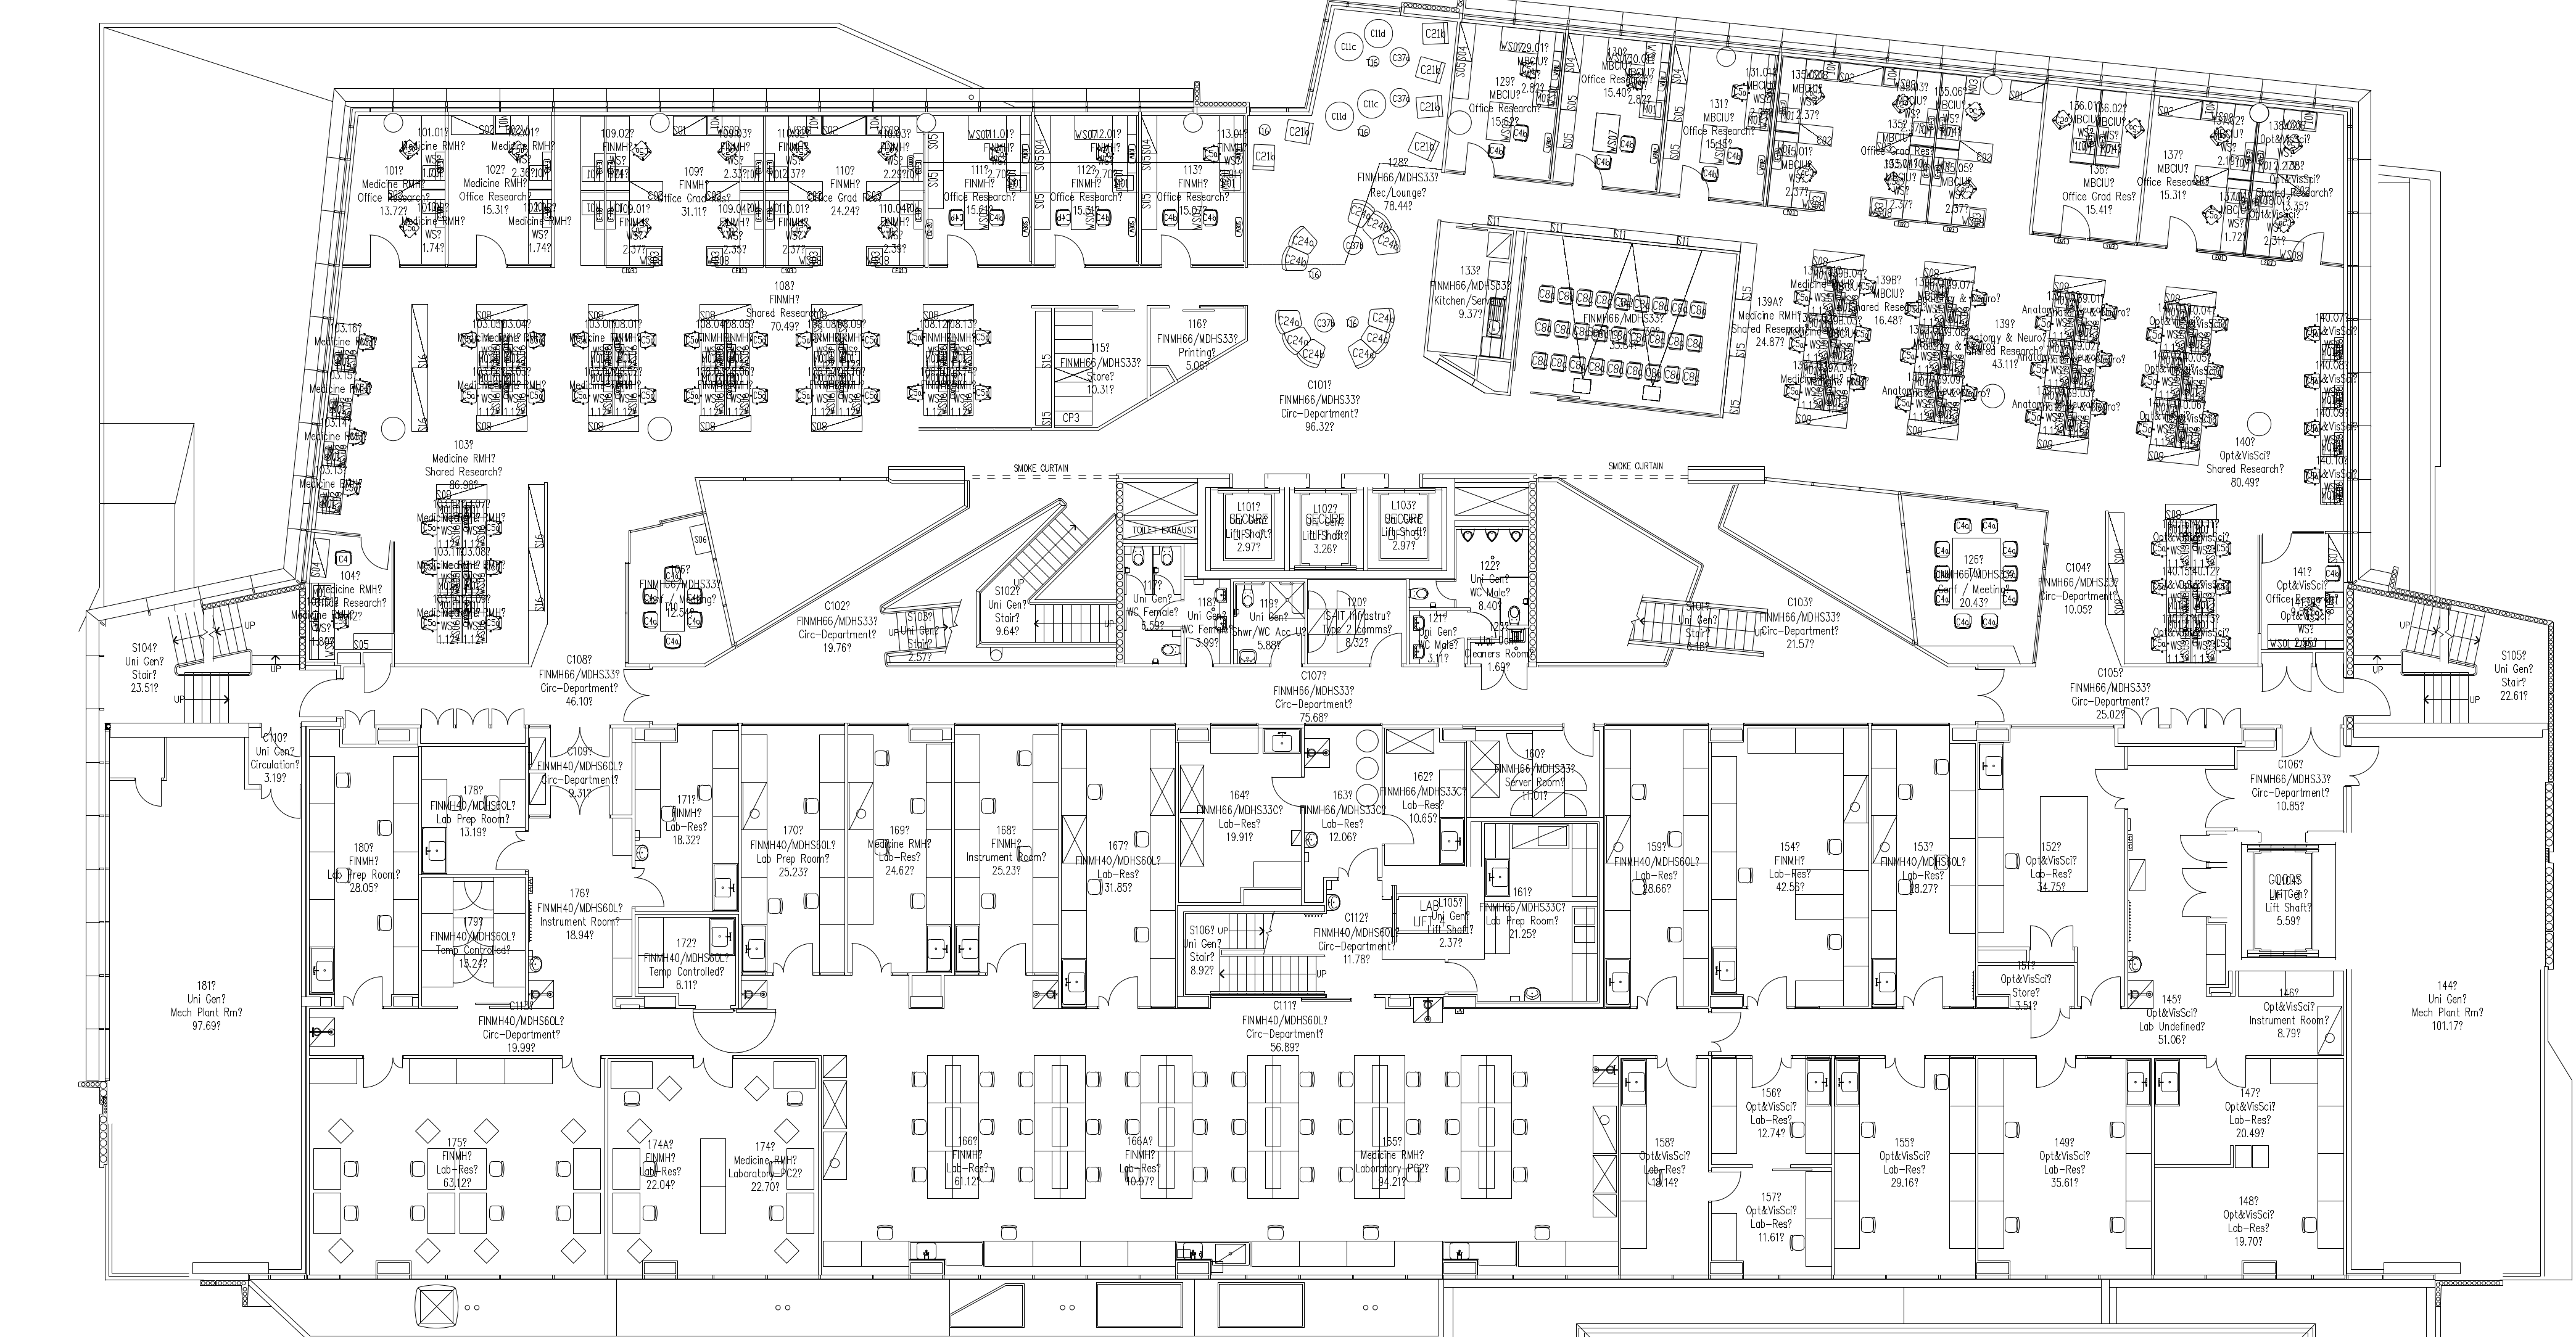door: (2164, 865, 2206, 923), (547, 782, 610, 819), (617, 668, 656, 722), (2203, 766, 2235, 829), (1976, 668, 2010, 724), (2355, 674, 2397, 719), (2280, 729, 2343, 758), (293, 676, 336, 719), (2256, 666, 2314, 697), (2092, 765, 2125, 816), (341, 969, 387, 1005), (2029, 916, 2077, 950), (2026, 1010, 2073, 1044), (2033, 1059, 2080, 1093), (635, 865, 671, 910), (2079, 974, 2123, 1010), (2201, 1059, 2247, 1093), (1365, 628, 1406, 666), (1477, 668, 1530, 697), (1337, 841, 1380, 877), (494, 829, 530, 872), (1636, 973, 1678, 1008), (1746, 973, 1789, 1008), (1656, 1058, 1699, 1093), (1750, 1058, 1792, 1093), (1883, 1059, 1925, 1095), (1901, 969, 1944, 1005), (361, 1059, 405, 1093), (690, 1058, 734, 1092), (257, 790, 300, 824), (559, 1059, 601, 1093), (772, 937, 814, 971), (850, 937, 893, 971), (2351, 744, 2383, 789), (1460, 136, 1498, 174), (1571, 148, 1608, 186), (1678, 160, 1716, 198), (1709, 1012, 1743, 1053), (986, 940, 1029, 973), (1097, 973, 1140, 1005), (1443, 961, 1482, 995), (1184, 634, 1216, 673), (1271, 630, 1303, 669), (474, 230, 508, 262), (2164, 215, 2199, 245), (2177, 828, 2206, 865), (358, 538, 390, 571), (359, 666, 394, 697), (366, 232, 400, 262), (1160, 233, 1194, 264), (2261, 530, 2291, 564), (2291, 228, 2326, 259), (2058, 204, 2092, 235), (1271, 775, 1300, 811), (1385, 812, 1414, 848), (1564, 731, 1596, 761), (1712, 1170, 1743, 1202), (455, 702, 489, 731), (946, 233, 980, 262), (1053, 233, 1087, 262), (131, 780, 164, 809), (419, 703, 453, 731), (491, 703, 525, 731), (2206, 705, 2242, 731), (2169, 705, 2205, 731), (2314, 666, 2344, 695), (2125, 705, 2160, 729), (344, 705, 375, 731), (1435, 581, 1455, 603), (1308, 588, 1329, 610), (1124, 574, 1143, 598)
